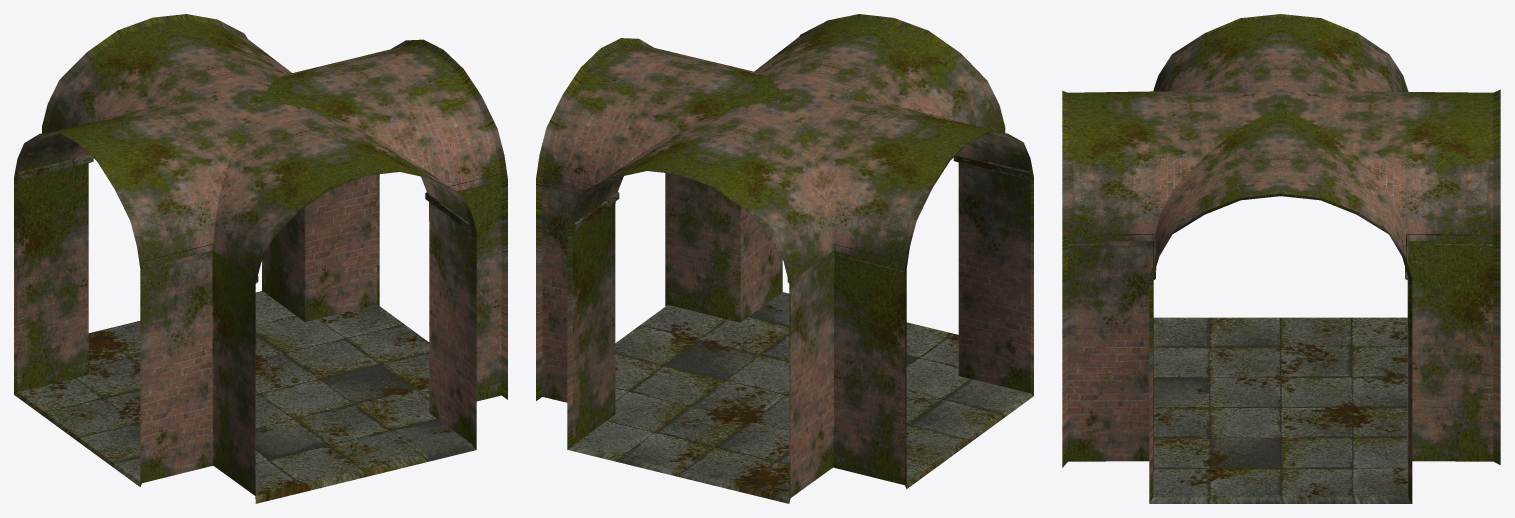
The model's file is TunnelXRoad.FBX.
3 renders of one model, left to right at view 1: azimuth 30°, elevation 25°; view 2: azimuth 150°, elevation 25°; view 3: azimuth 270°, elevation 25°, orthographic. The views are drawn at different scales.
Visible parts, largest first — view 1: TunnelXRoad; view 2: TunnelXRoad; view 3: TunnelXRoad.
Boxes of the visible parts, x1=… form: TunnelXRoad: x1=14, y1=14, x2=507, y2=503; TunnelXRoad: x1=536, y1=14, x2=1033, y2=503; TunnelXRoad: x1=1062, y1=14, x2=1500, y2=503.
Size of the model in its own units: 509 by 404 by 515.
